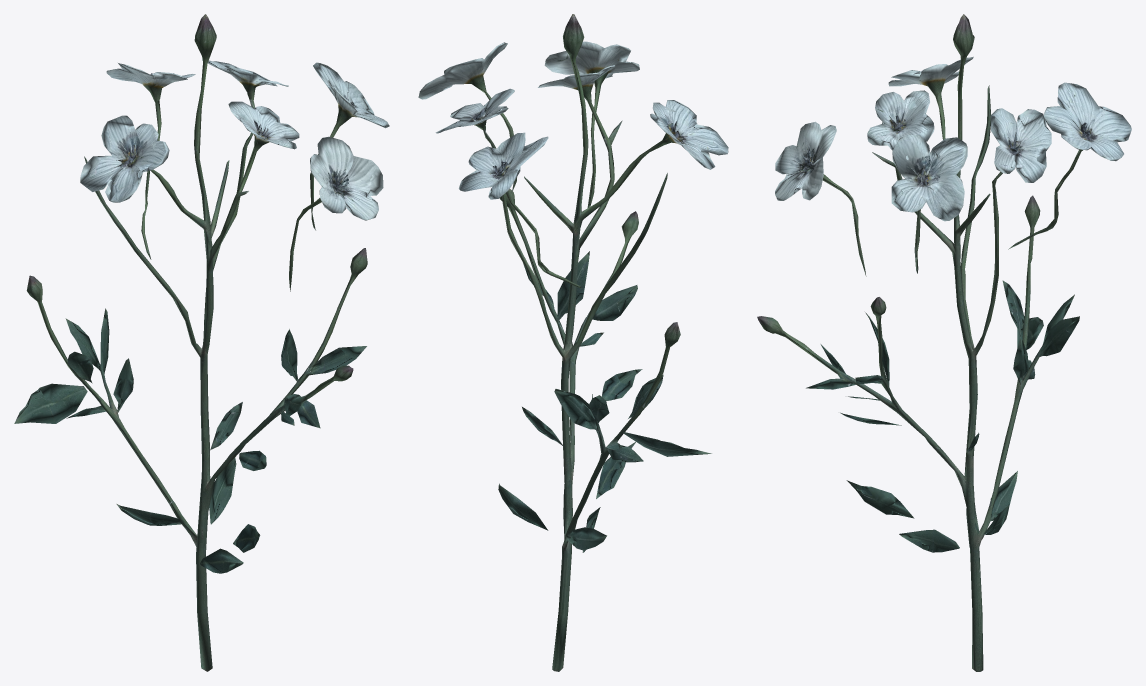
File: flower.glb
3 views of the same model, side by side, from view 1: azimuth 30°, elevation 25°; view 2: azimuth 150°, elevation 25°; view 3: azimuth 270°, elevation 25° (orthographic).
Bounding box in the file's own units: 0.9805 × 1.9 × 0.9898.
1 material, 1 textured.
